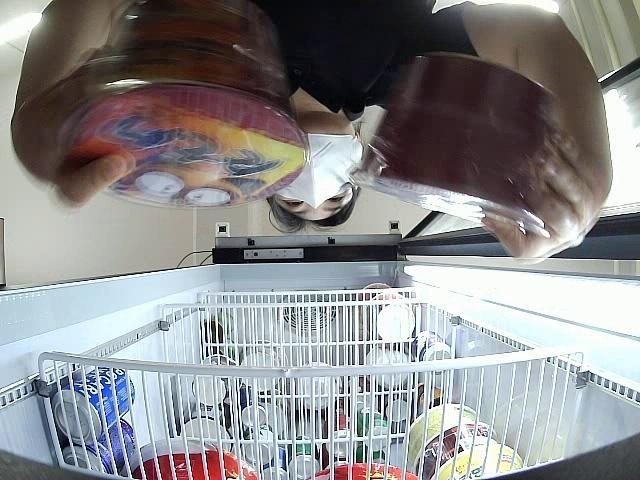05_nuguri_L: (60, 0, 308, 210), (346, 53, 554, 238)
